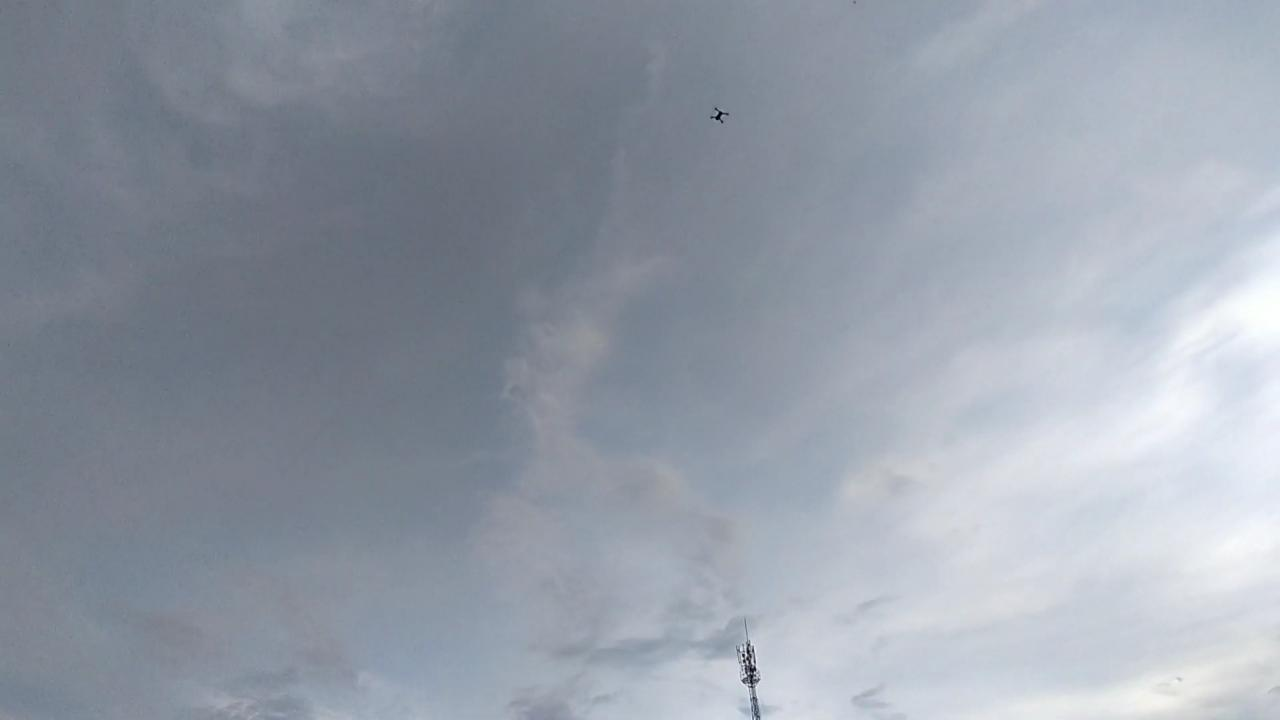Drone: (701, 99, 740, 133)
